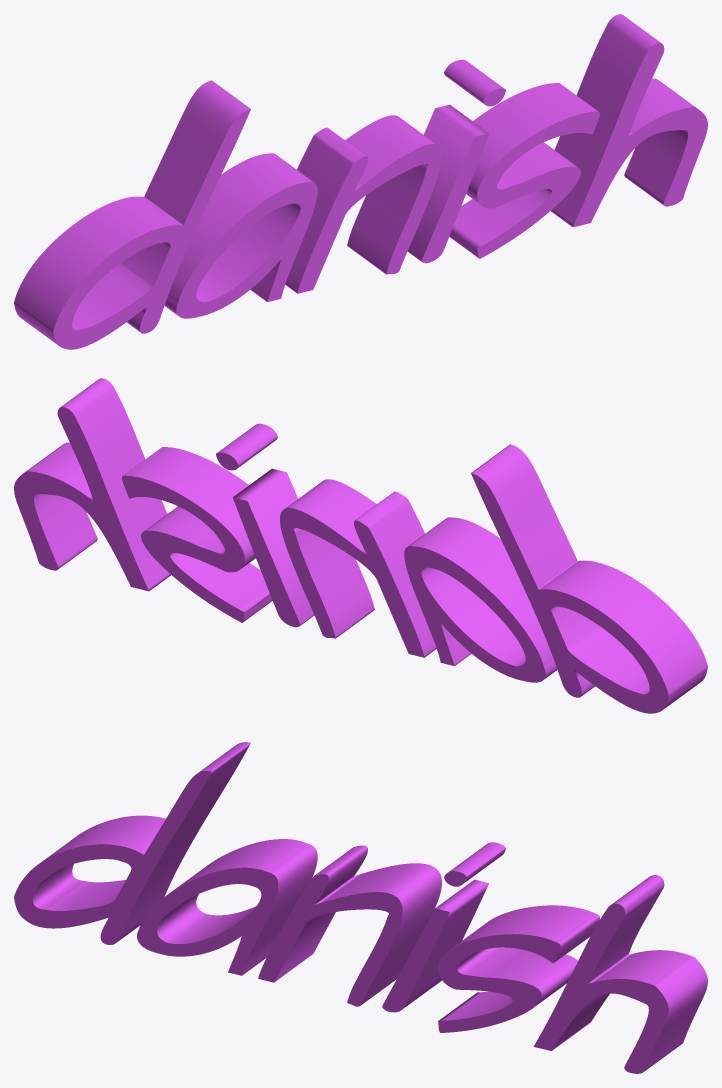
The picture shows the model from 3 angles, top to bottom: view 1: azimuth 30°, elevation 25°; view 2: azimuth 150°, elevation 25°; view 3: azimuth 330°, elevation 25°; orthographic projection.
Parts seen in each view (by area): view 1: danish; view 2: danish; view 3: danish.
Boxes of the visible parts, bbox=[...] form: danish: bbox=[14, 14, 707, 349]; danish: bbox=[14, 378, 707, 713]; danish: bbox=[14, 742, 707, 1073].
Bounding box in the file's own units: 2.89 × 0.8661 × 0.3.
